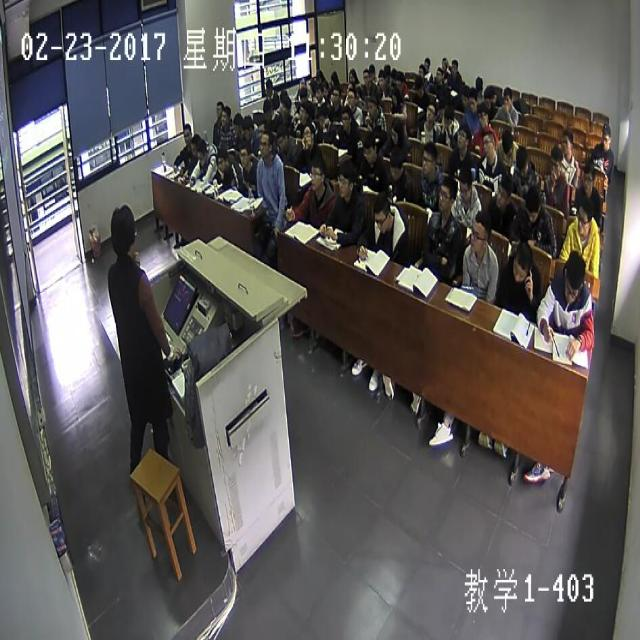person: (110, 205, 136, 251), (562, 260, 580, 302), (335, 160, 354, 197), (512, 246, 530, 284), (373, 193, 390, 232), (470, 212, 487, 251), (575, 202, 591, 239), (437, 179, 453, 211), (308, 157, 323, 190), (525, 188, 539, 220), (421, 147, 436, 176), (581, 162, 593, 197), (495, 178, 510, 206), (388, 151, 402, 180), (458, 170, 470, 202), (547, 148, 560, 176), (361, 135, 374, 162), (481, 134, 495, 158), (214, 148, 226, 174), (455, 126, 467, 151), (259, 131, 271, 155), (516, 149, 528, 173), (599, 124, 610, 149), (196, 142, 207, 166), (560, 132, 572, 154), (443, 107, 453, 132), (388, 119, 398, 143), (302, 126, 312, 149), (502, 85, 512, 108), (503, 130, 512, 155), (232, 113, 242, 134), (276, 127, 286, 148), (316, 109, 326, 130), (218, 109, 230, 125), (366, 96, 376, 115), (238, 146, 248, 164), (257, 122, 267, 140), (242, 118, 252, 136), (261, 101, 271, 119), (339, 110, 349, 128), (424, 104, 434, 122), (181, 124, 190, 143), (413, 77, 422, 96), (366, 61, 376, 78), (188, 134, 197, 152), (477, 108, 486, 126), (391, 89, 399, 109), (487, 83, 495, 102), (296, 105, 306, 120), (214, 98, 222, 116), (346, 88, 354, 106), (377, 70, 385, 88), (449, 56, 457, 74), (468, 92, 476, 110), (280, 98, 290, 112), (482, 90, 490, 107), (460, 88, 467, 107), (264, 79, 272, 95), (330, 88, 339, 102), (313, 86, 321, 101), (347, 67, 355, 82), (361, 67, 368, 84), (474, 75, 481, 92), (297, 74, 305, 88), (314, 68, 322, 82), (396, 70, 402, 88), (439, 56, 446, 70), (423, 55, 429, 71), (329, 71, 336, 84), (298, 86, 304, 101), (436, 67, 442, 82), (384, 61, 389, 77), (354, 84, 360, 97), (345, 81, 352, 92), (417, 64, 423, 76), (321, 80, 326, 94), (390, 68, 395, 80)
